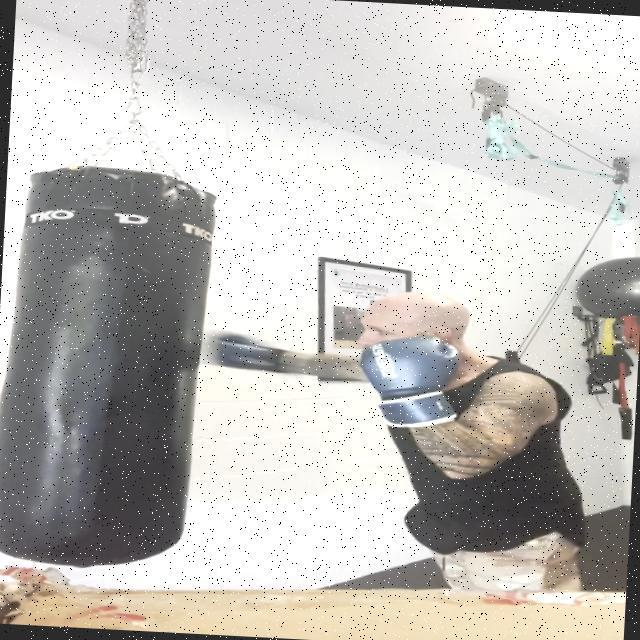punch: (204, 320, 382, 388)
